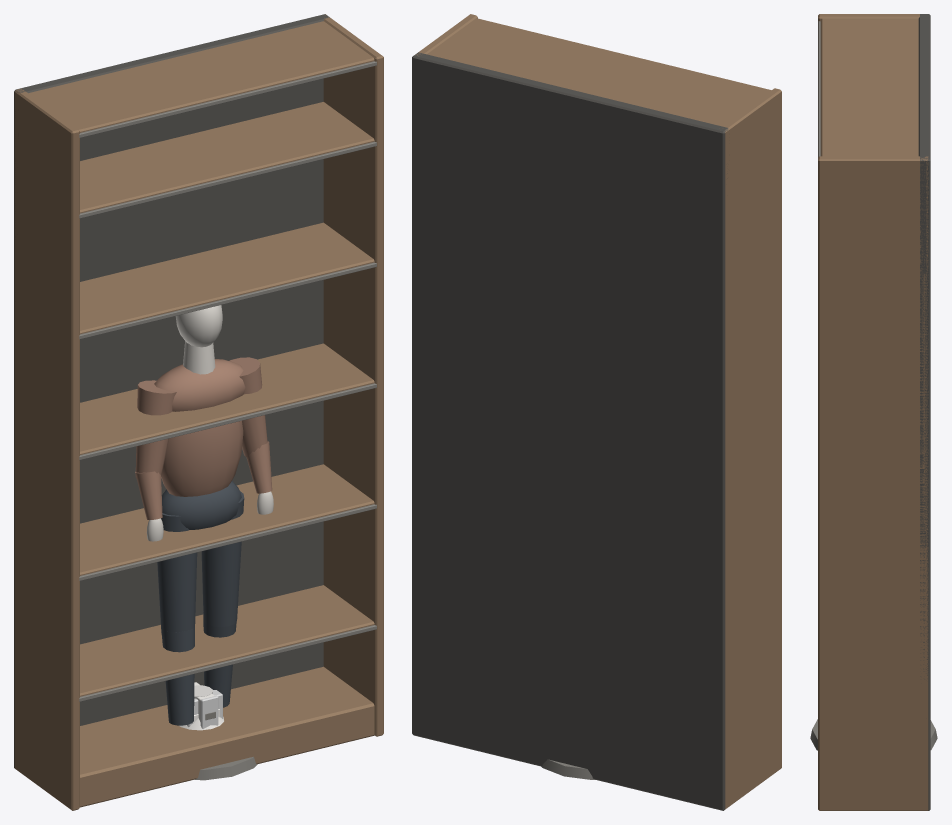
The model's file is interior_wall_kit.glb.
3 views of the same model, side by side, from view 1: azimuth 30°, elevation 25°; view 2: azimuth 150°, elevation 25°; view 3: azimuth 270°, elevation 25° (orthographic). The views are drawn at different scales.
Parts seen in each view (by area): view 1: WallBay, Mannequin, Book; view 2: WallBay; view 3: WallBay, Mannequin.
Part boxes in pixels (x1,y1,x2,y2): WallBay: (14, 14, 383, 810); Mannequin: (135, 305, 273, 780); Book: (194, 682, 218, 728); WallBay: (412, 14, 781, 810); WallBay: (818, 14, 930, 810); Mannequin: (810, 719, 937, 750).
Bounding box in the file's own units: 1.3 × 2.7 × 0.478.
